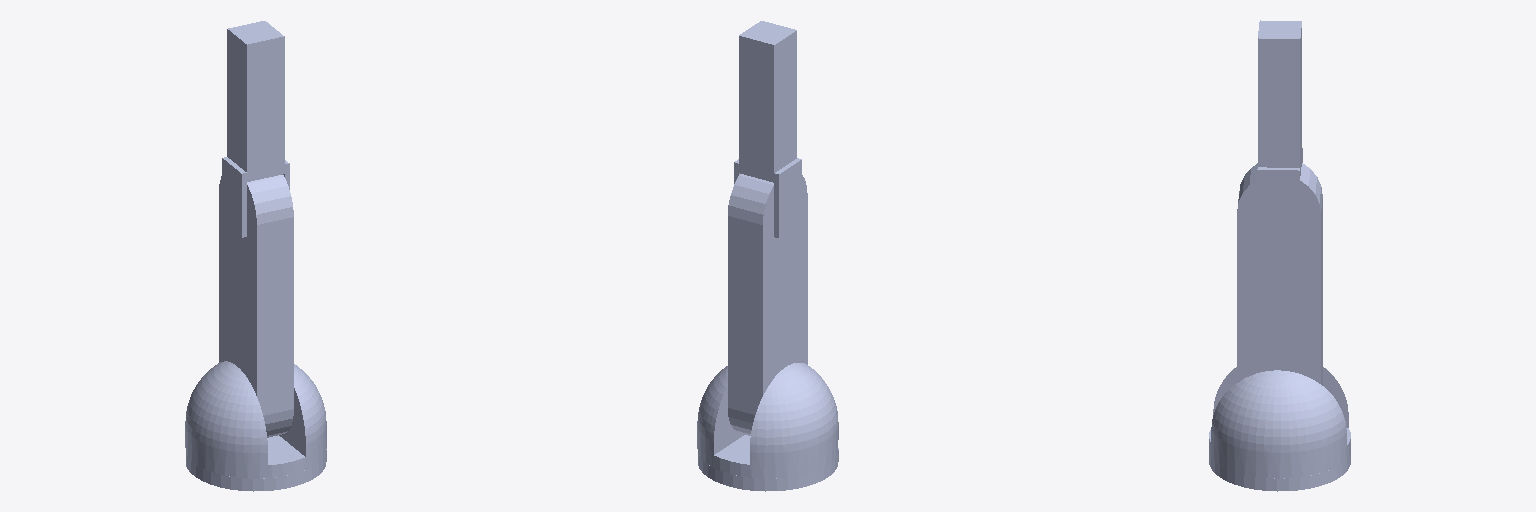
robot.urdf — arm:
<?xml version="1.0" encoding="utf-8"?>
<!-- This URDF was automatically created by SolidWorks to URDF Exporter! Originally created by [author] ([email redacted]) 
     Commit Version: 1.6.0-4-g7f85cfe  Build Version: 1.6.7995.38578
     For more information, please see http://wiki.ros.org/sw_urdf_exporter -->
<robot
  name="arm">
  <link
    name="base_link">
    <inertial>
      <origin
        xyz="0.437369618941639 -0.758884809906408 0.535250201355418"
        rpy="0 0 0" />
      <mass
        value="78.9325154214436" />
      <inertia
        ixx="4.97671356004004"
        ixy="-3.3630163935889E-32"
        ixz="-2.40741243048404E-32"
        iyy="4.97671356004004"
        iyz="2.72997989533537E-16"
        izz="9.81796791632023" />
    </inertial>
    <visual>
      <origin
        xyz="0 0 0"
        rpy="0 0 0" />
      <geometry>
        <mesh
          filename="package://arm/meshes/base_link.STL" />
      </geometry>
      <material
        name="">
        <color
          rgba="0.792156862745098 0.819607843137255 0.933333333333333 1" />
      </material>
    </visual>
    <collision>
      <origin
        xyz="0 0 0"
        rpy="0 0 0" />
      <geometry>
        <mesh
          filename="package://arm/meshes/base_link.STL" />
      </geometry>
    </collision>
  </link>
  <link
    name="base">
    <inertial>
      <origin
        xyz="5.55111512312578E-17 0.241827497166694 1.11022302462516E-16"
        rpy="0 0 0" />
      <mass
        value="276.551709555531" />
      <inertia
        ixx="21.3305461598545"
        ixy="-1.94575635394553E-15"
        ixz="-2.1369899010415E-05"
        iyy="35.455977984331"
        iyz="2.11229301650297E-15"
        izz="29.6143277041253" />
    </inertial>
    <visual>
      <origin
        xyz="0 0 0"
        rpy="0 0 0" />
      <geometry>
        <mesh
          filename="package://arm/meshes/base.STL" />
      </geometry>
      <material
        name="">
        <color
          rgba="0.792156862745098 0.819607843137255 0.933333333333333 1" />
      </material>
    </visual>
    <collision>
      <origin
        xyz="0 0 0"
        rpy="0 0 0" />
      <geometry>
        <mesh
          filename="package://arm/meshes/base.STL" />
      </geometry>
    </collision>
  </link>
  <joint
    name="base"
    type="continuous">
    <origin
      xyz="0.437369618941639 -0.758884809906408 0.58487706702706"
      rpy="1.5707963267949 0 -0.0454959858958344" />
    <parent
      link="base_link" />
    <child
      link="base" />
    <axis
      xyz="0 1 0" />
  </joint>
  <link
    name="lower">
    <inertial>
      <origin
        xyz="0.00250000000000017 0.75 0"
        rpy="0 0 0" />
      <mass
        value="336.618325996843" />
      <inertia
        ixx="117.667071103716"
        ixy="2.34721661654883E-14"
        ixz="-2.62012633811537E-14"
        iyy="11.7657027044023"
        iyz="5.46436305439298E-16"
        izz="110.783736702626" />
    </inertial>
    <visual>
      <origin
        xyz="0 0 0"
        rpy="0 0 0" />
      <geometry>
        <mesh
          filename="package://arm/meshes/lower.STL" />
      </geometry>
      <material
        name="">
        <color
          rgba="0.792156862745098 0.819607843137255 0.933333333333333 1" />
      </material>
    </visual>
    <collision>
      <origin
        xyz="0 0 0"
        rpy="0 0 0" />
      <geometry>
        <mesh
          filename="package://arm/meshes/lower.STL" />
      </geometry>
    </collision>
  </link>
  <joint
    name="lower"
    type="continuous">
    <origin
      xyz="0 0.4 0"
      rpy="0 0 0" />
    <parent
      link="base" />
    <child
      link="lower" />
    <axis
      xyz="1 0 0" />
  </joint>
  <link
    name="upper">
    <inertial>
      <origin
        xyz="2.22044604925031E-16 0.718316160194336 2.22044604925031E-16"
        rpy="0 0 0" />
      <mass
        value="111.106194490192" />
      <inertia
        ixx="17.0475501956029"
        ixy="5.30990299731457E-15"
        ixz="1.11022302462516E-15"
        iyy="1.90879408023281"
        iyz="-1.63680955458967E-16"
        izz="17.322149032723" />
    </inertial>
    <visual>
      <origin
        xyz="0 0 0"
        rpy="0 0 0" />
      <geometry>
        <mesh
          filename="package://arm/meshes/upper.STL" />
      </geometry>
      <material
        name="">
        <color
          rgba="0.792156862745098 0.819607843137255 0.933333333333333 1" />
      </material>
    </visual>
    <collision>
      <origin
        xyz="0 0 0"
        rpy="0 0 0" />
      <geometry>
        <mesh
          filename="package://arm/meshes/upper.STL" />
      </geometry>
    </collision>
  </link>
  <joint
    name="upper"
    type="continuous">
    <origin
      xyz="0 1.5 0"
      rpy="0 0 0" />
    <parent
      link="lower" />
    <child
      link="upper" />
    <axis
      xyz="1 0 0" />
  </joint>
</robot>

--- Render facts (derived) ---
The picture shows the robot from 3 angles, left to right: view 1: azimuth 30°, elevation 25°; view 2: azimuth 150°, elevation 25°; view 3: azimuth 270°, elevation 25°; orthographic projection.
Robot: arm — 4 links, 3 joints (3 continuous); root link base_link; default pose: all joints at 0.
Links seen in each view (by area): view 1: lower, base, upper, base_link; view 2: lower, base, upper, base_link; view 3: lower, base, upper, base_link.
Boxes of the visible links, x1,y1,x2,y2 form: lower: [219, 175, 293, 437]; base: [185, 361, 326, 478]; upper: [222, 21, 289, 237]; base_link: [186, 449, 326, 491]; lower: [728, 174, 807, 435]; base: [697, 363, 838, 478]; upper: [734, 21, 801, 237]; base_link: [698, 448, 838, 491]; lower: [1237, 163, 1322, 385]; base: [1209, 367, 1350, 478]; upper: [1257, 20, 1302, 234]; base_link: [1209, 452, 1350, 491].
Size in the robot's own frame: 0.9999 by 1 by 3.35 metres.
4 mesh visuals loaded from 4 distinct referenced files (4 binary STL).